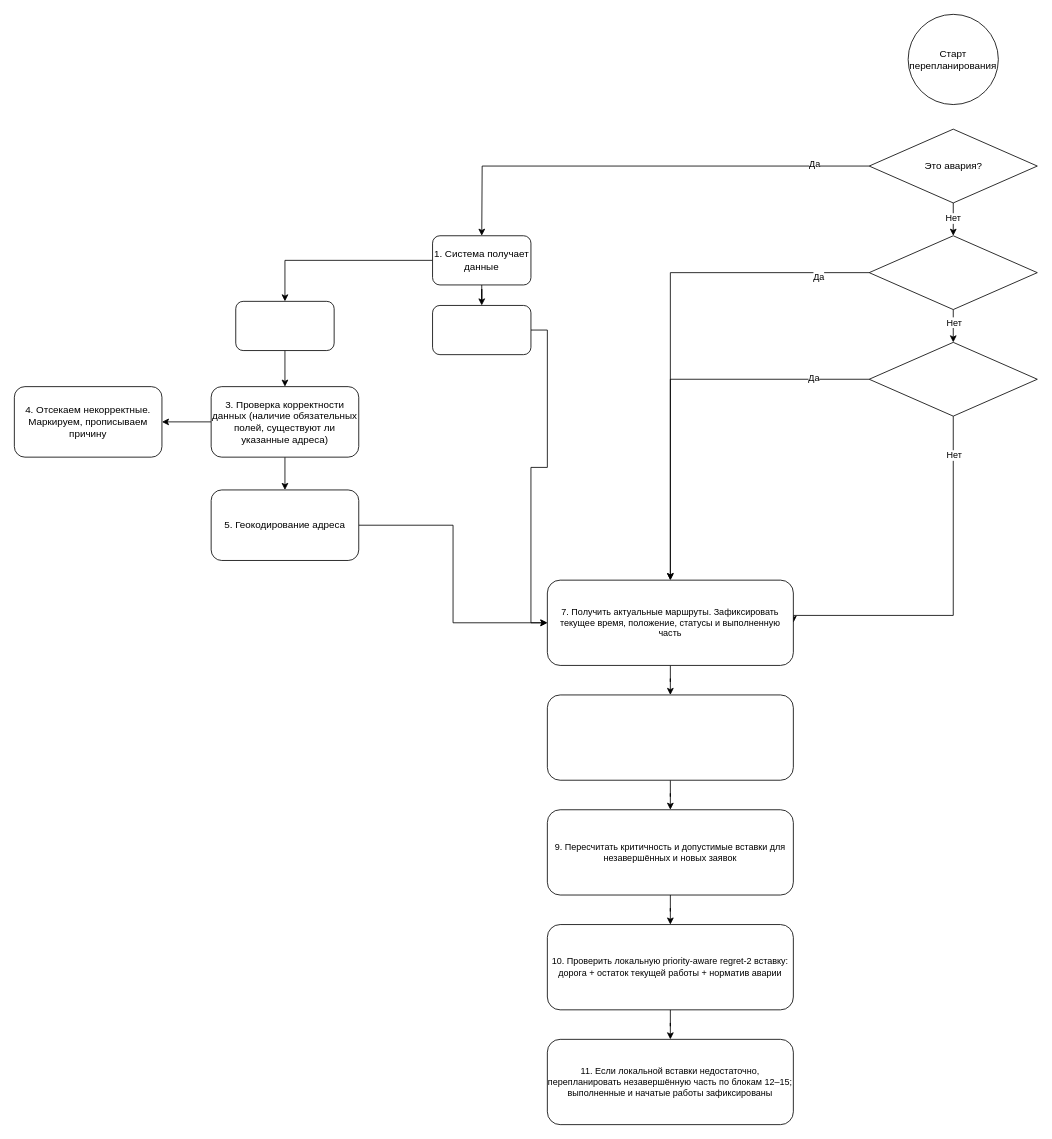
The diagram is 1052 pixels wide and 1139 high, and some of its shapes have lost their labels. The shapes that lost their labels are listed below. From the top down, each one's centre as x and y in pixels, then its label:
the point at 952,272: Отмена заявки?
the point at 284,326: 2. Данные по заявкам
the point at 481,330: 6. Данные справочника с нормативами
the point at 952,379: Пропал инженер со смены?
the point at 670,737: 8. Отобрать подходящих инженеров: навыки, транспорт, смена и достижимость окна
